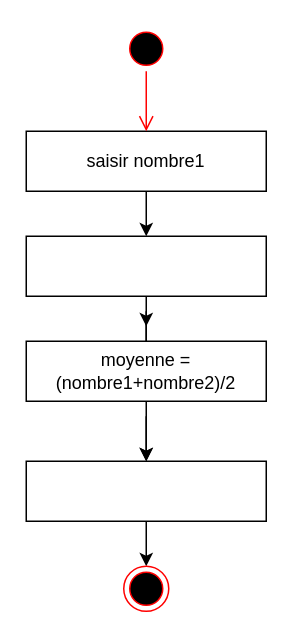
Some shapes in this 293 by 638 pixel diagram are drawn without their labels. Here are the shapes that lost their labels. From the top down, the box of each, then its label:
(25, 235, 266, 296): saisir nombre2
(25, 460, 266, 521): afficher moyenne
